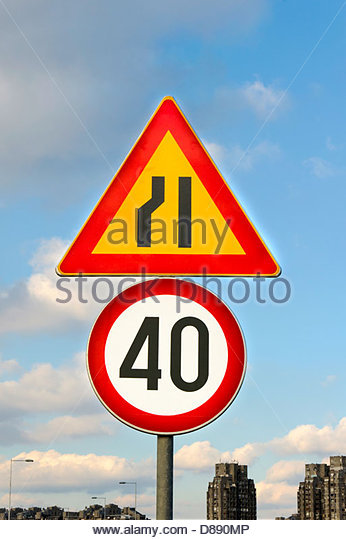Speed_limit_40km: (85, 277, 255, 436)
